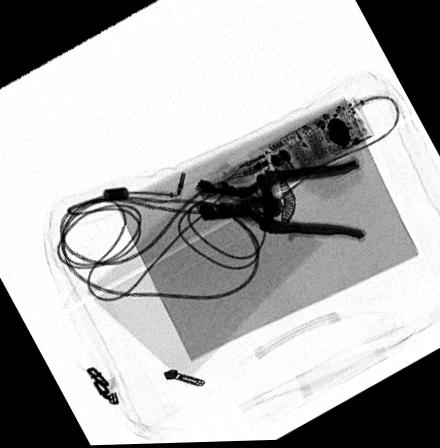Pliers: (194, 161, 368, 244)
